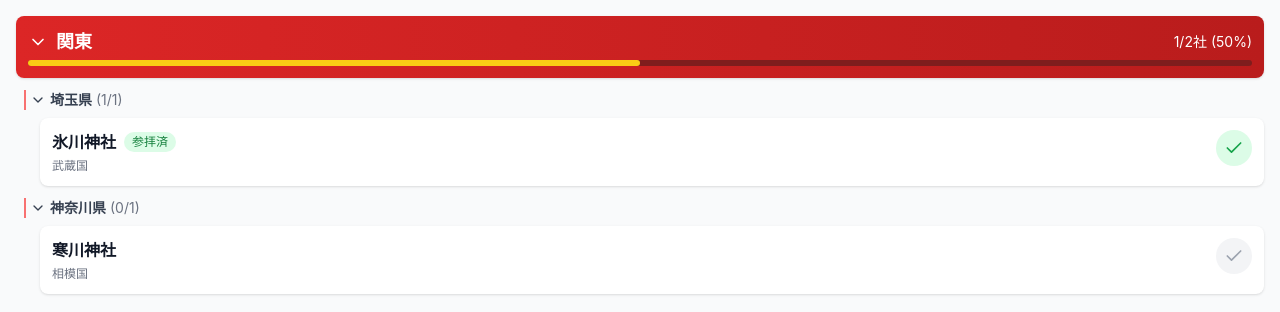
it: ShrineListView – region collapse › clicking region header hides prefecture list
Click the heading "関東": (74, 42) [56,28,92,56]
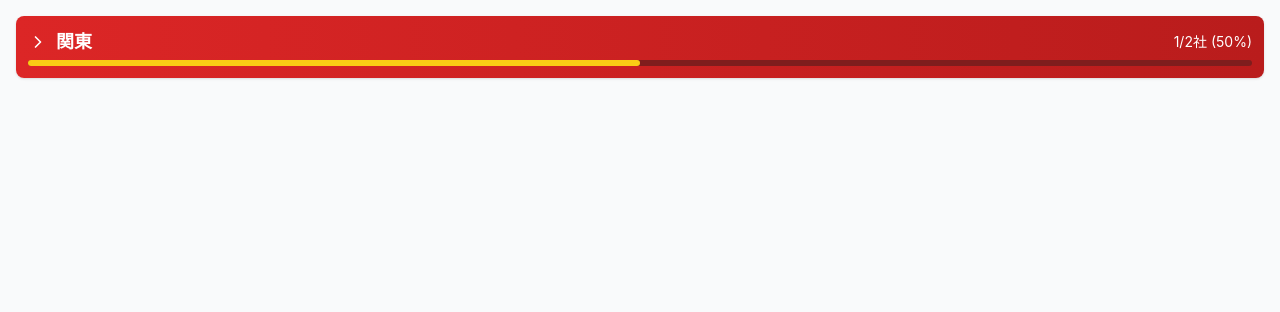
Check: the text "埼玉県" is gone
Check: the heading "氷川神社" is gone
